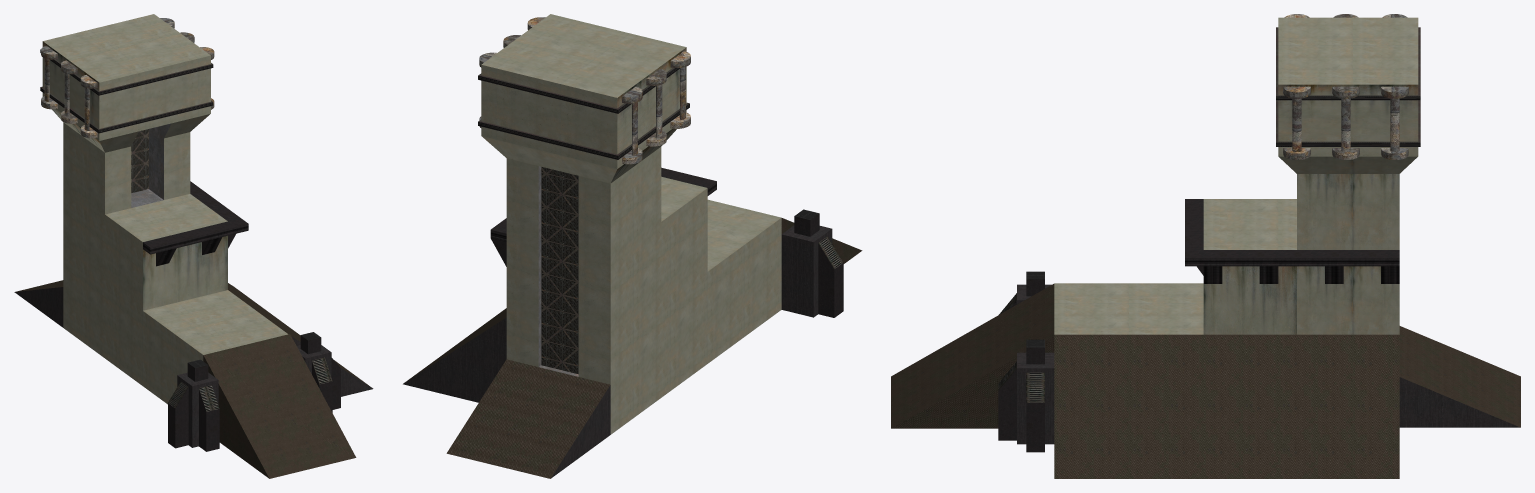
Rendered from ritesidebase.fbx.
The picture shows the model from 3 angles, left to right: view 1: azimuth 30°, elevation 25°; view 2: azimuth 150°, elevation 25°; view 3: azimuth 270°, elevation 25°; orthographic projection. The views are drawn at different scales.
Visible parts, largest first — view 1: Object; view 2: Object; view 3: Object.
Boxes of the visible parts, x1=… form: Object: x1=14, y1=14, x2=373, y2=478; Object: x1=403, y1=14, x2=862, y2=478; Object: x1=891, y1=14, x2=1520, y2=478.
Bounding box in the file's own units: 6400 × 8300 × 13500.
